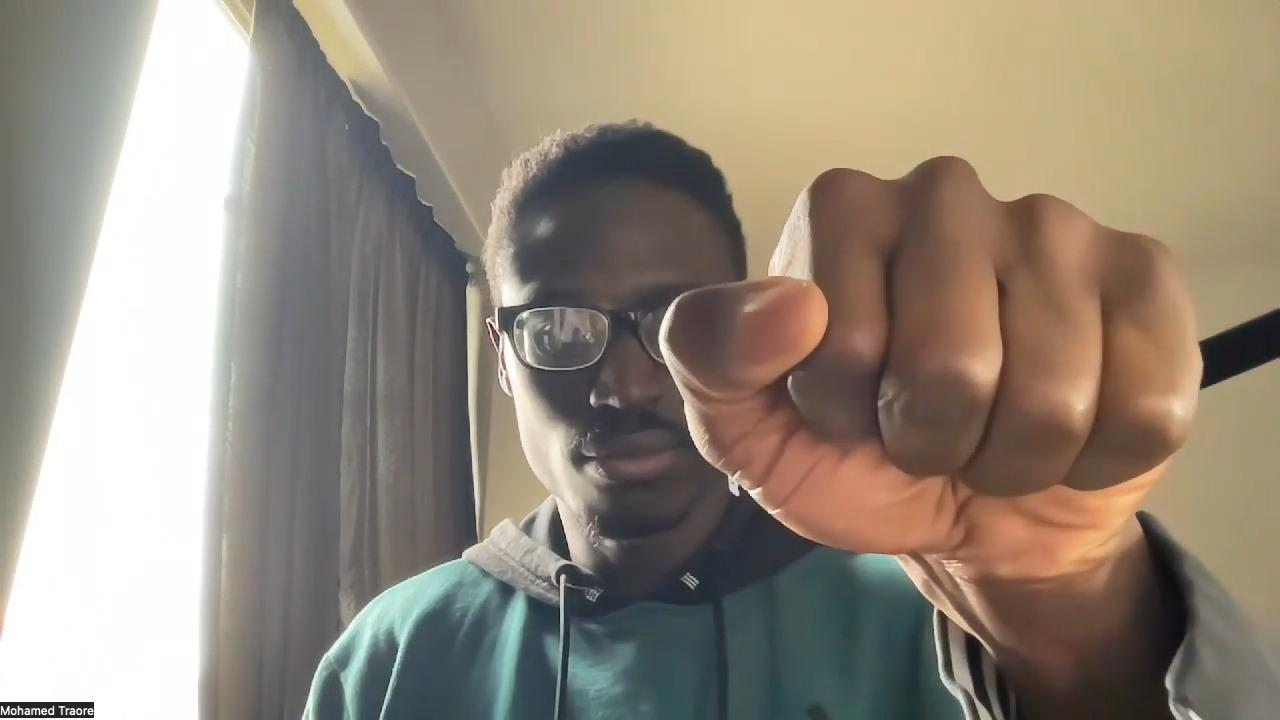Rock: (655, 153, 1205, 590)
